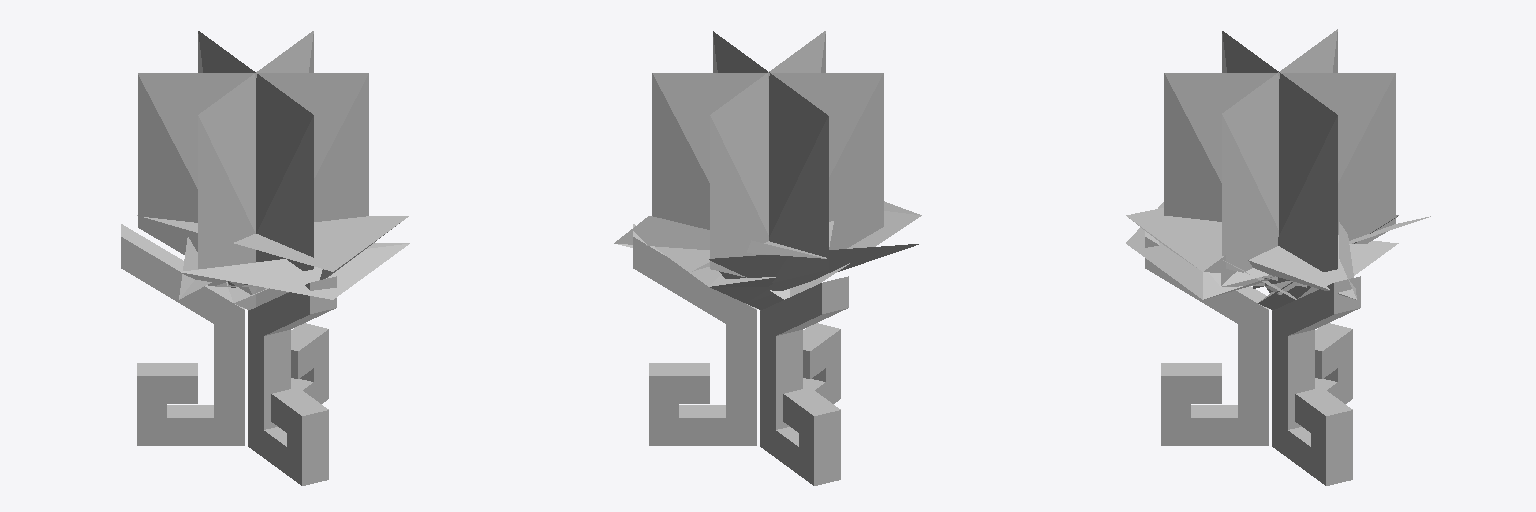
The model's file is brazier_of_hoarding.obj.
3 renders of one model, left to right at view 1: azimuth 30°, elevation 25°; view 2: azimuth 150°, elevation 25°; view 3: azimuth 270°, elevation 25°, orthographic.
Parts seen in each view (by area): view 1: Fire1.002_Plane.001, Leg3_Plane, Leg1_Plane, Fire1.001_Plane.001, Fire1_Plane.001, Bowl_Cylinder.003, Leg2_Plane; view 2: Fire1.001_Plane.001, Leg2_Plane, Leg3_Plane, Fire1.002_Plane.001, Fire1_Plane.001, Bowl_Cylinder.003, Leg1_Plane; view 3: Fire1_Plane.001, Leg2_Plane, Leg1_Plane, Fire1.001_Plane.001, Bowl_Cylinder.003, Fire1.002_Plane.001, Leg3_Plane.
Part boxes in pixels (bbox=[...]): Fire1.002_Plane.001: bbox=[138, 73, 368, 295]; Leg3_Plane: bbox=[121, 224, 244, 445]; Leg1_Plane: bbox=[248, 276, 336, 485]; Fire1.001_Plane.001: bbox=[198, 31, 313, 268]; Fire1_Plane.001: bbox=[198, 31, 313, 287]; Bowl_Cylinder.003: bbox=[137, 215, 409, 309]; Leg2_Plane: bbox=[248, 310, 328, 403]; Fire1.001_Plane.001: bbox=[652, 73, 883, 249]; Leg2_Plane: bbox=[633, 224, 756, 445]; Leg3_Plane: bbox=[760, 276, 848, 485]; Fire1.002_Plane.001: bbox=[713, 31, 828, 282]; Fire1_Plane.001: bbox=[710, 31, 825, 277]; Bowl_Cylinder.003: bbox=[614, 201, 921, 309]; Leg1_Plane: bbox=[760, 310, 840, 403]; Fire1_Plane.001: bbox=[1164, 73, 1395, 294]; Leg2_Plane: bbox=[1272, 276, 1360, 485]; Leg1_Plane: bbox=[1145, 231, 1268, 445]; Fire1.001_Plane.001: bbox=[1222, 31, 1337, 288]; Bowl_Cylinder.003: bbox=[1126, 202, 1430, 309]; Fire1.002_Plane.001: bbox=[1222, 29, 1337, 287]; Leg3_Plane: bbox=[1272, 310, 1352, 403].
Bounding box in the file's own units: 0.866 × 1.31 × 1.